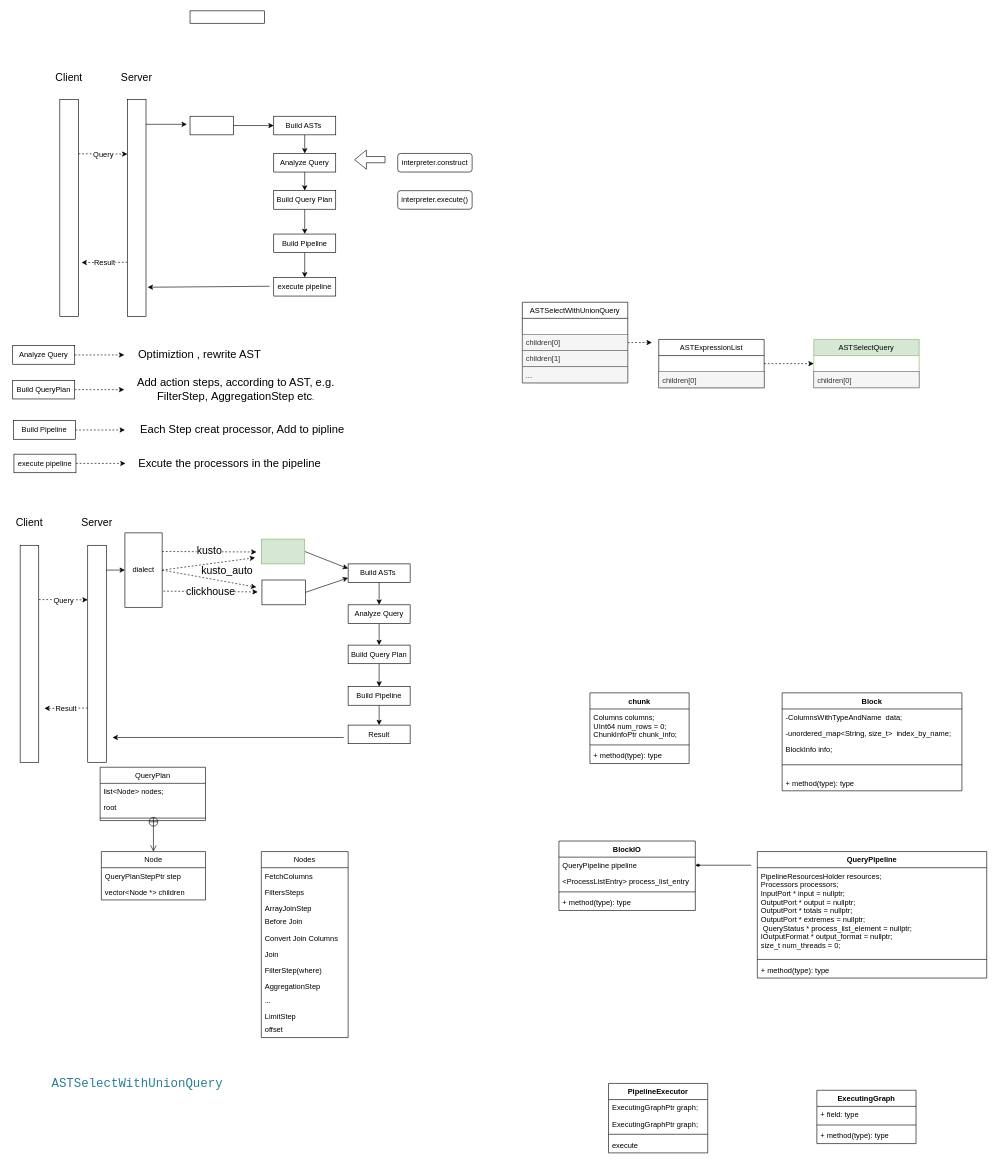
Image size: 998x1166. Some labels were removed from this diagram. The centre of each missing label's shape, as x and y in pixels:
"ClickHouse Parsers" goes at (x=283, y=592).
"KQL" goes at (x=226, y=16).
"KQL Parsers" goes at (x=283, y=551).
"Parsers" goes at (x=211, y=125).
